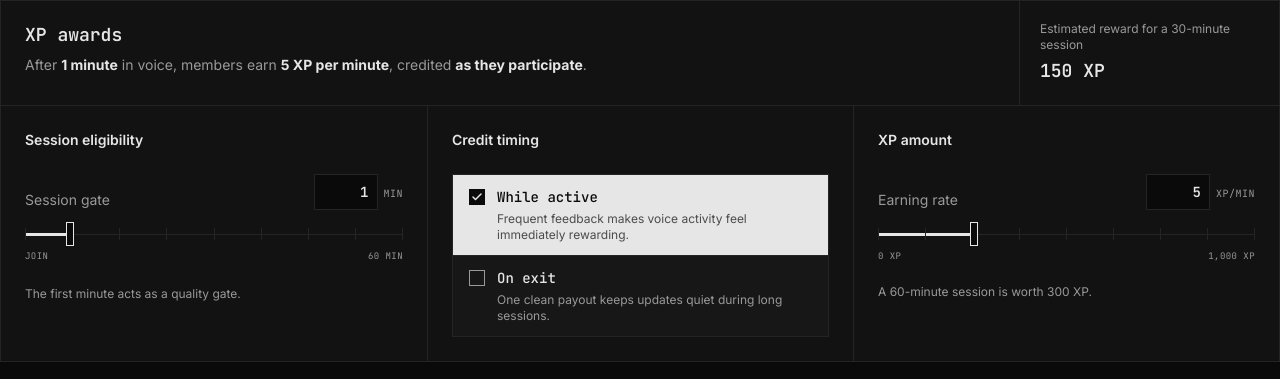
Scenario: XP settings › edits voice awards through the shared award controls
The image size is (1280, 379).
Expected: the number field named "Session duration" holds "1", [314,174,378,210]
Expected: the slider named "Voice XP per minute" is shown, [970,222,978,246]
Press ArrowRight in the slider named "Minimum voice session", box [66,222,74,246]
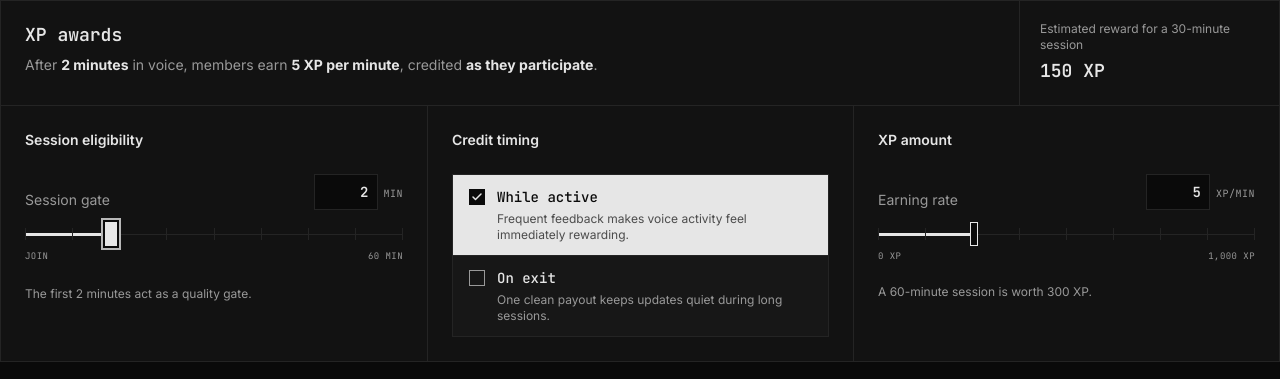
Result: the number field named "Session duration" holds "2" at [314,174,378,210]
Replace the text in the number field named "Earning rate" with "8": (1178, 192) [1146,174,1210,210]
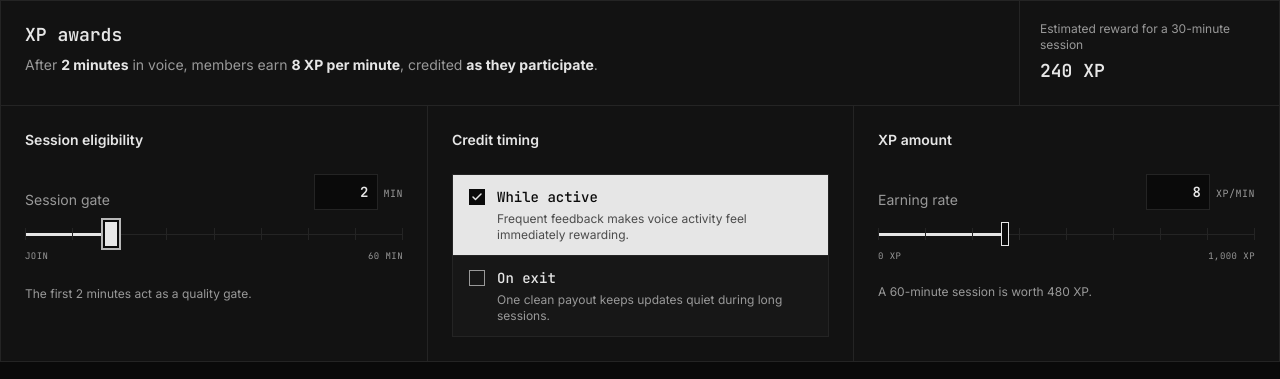
Result: the text "240 XP" is shown at [1040,59,1105,82]
Result: the text "A 60-minute session is worth 480 XP." is shown at [878,284,1092,298]
Click the radio button labelled "On exit": (640, 296) [453,256,828,336]
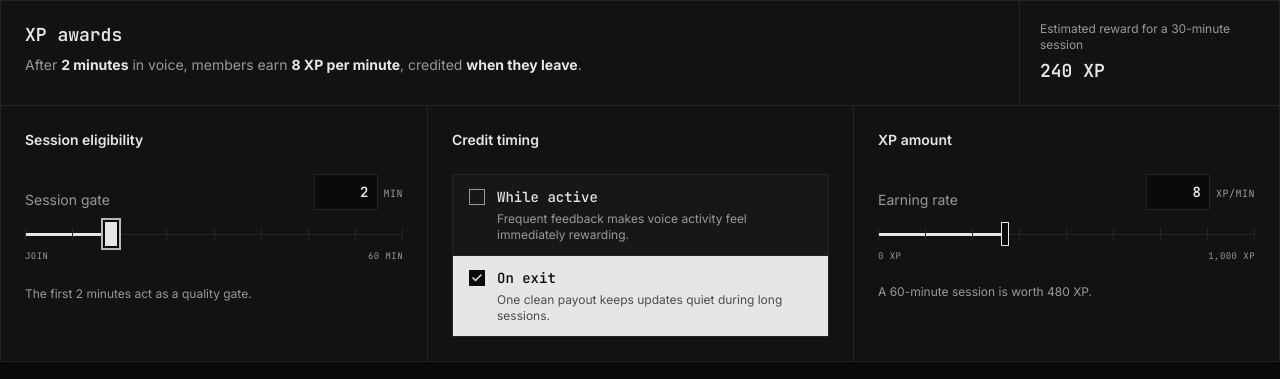
Result: the text "when they leave" is shown at [466,56,578,73]
